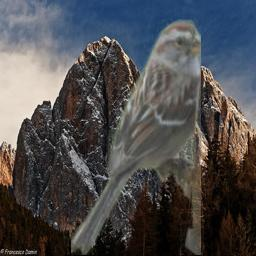Sparrow: (71, 19, 201, 255)
